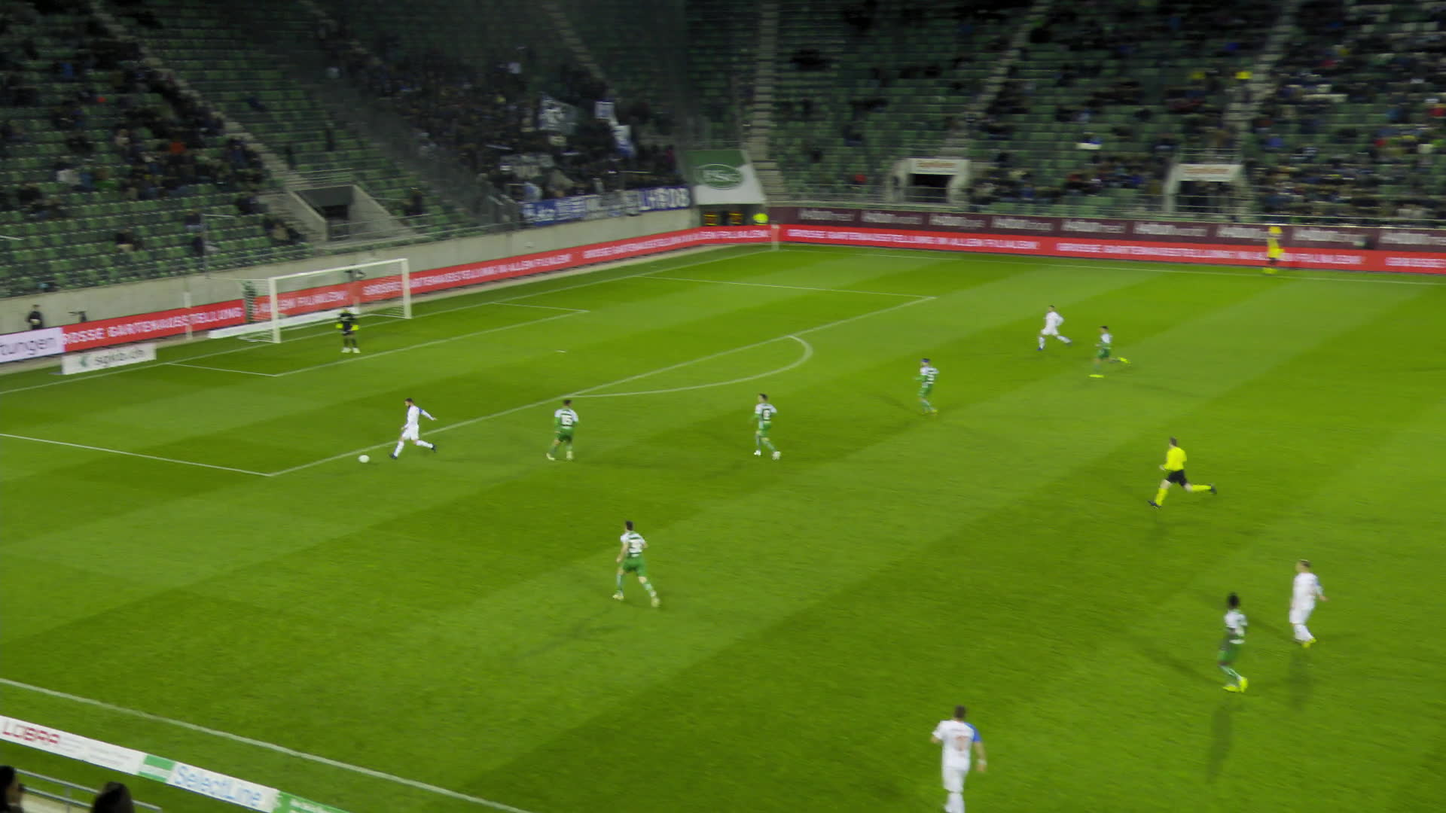ball: (355, 454, 365, 462)
player: (920, 703, 978, 810), (1204, 587, 1241, 692), (608, 519, 654, 601), (1279, 554, 1315, 644), (740, 392, 780, 457), (391, 396, 431, 458), (1027, 304, 1068, 350), (546, 397, 573, 461), (1087, 324, 1118, 377), (908, 357, 936, 414), (328, 305, 352, 353)
referee: (1148, 436, 1204, 508), (1251, 225, 1272, 274)
